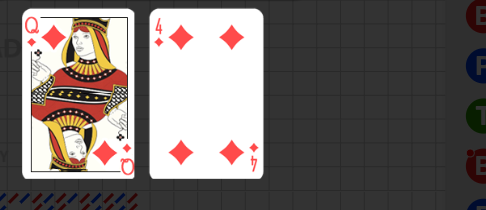4D: (248, 141, 260, 172)
QD: (78, 132, 122, 179), (11, 12, 55, 58)
